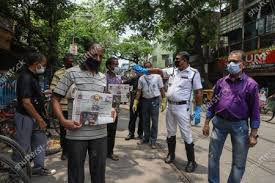mask: (80, 39, 105, 73), (26, 47, 46, 76), (224, 48, 244, 76), (106, 56, 123, 81), (169, 49, 188, 70)
